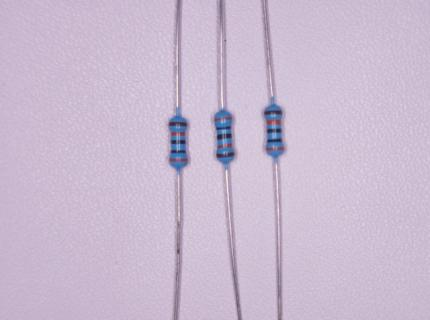Black band: (217, 133, 232, 140), (215, 125, 232, 131), (170, 139, 186, 145), (266, 128, 282, 134), (170, 149, 186, 154), (267, 138, 283, 143)
Brown band: (216, 152, 236, 158), (169, 122, 188, 127), (263, 110, 282, 115)
Orange band: (214, 116, 233, 122), (265, 146, 285, 151), (217, 143, 233, 149), (169, 158, 188, 163), (266, 119, 281, 125), (170, 131, 186, 136)
